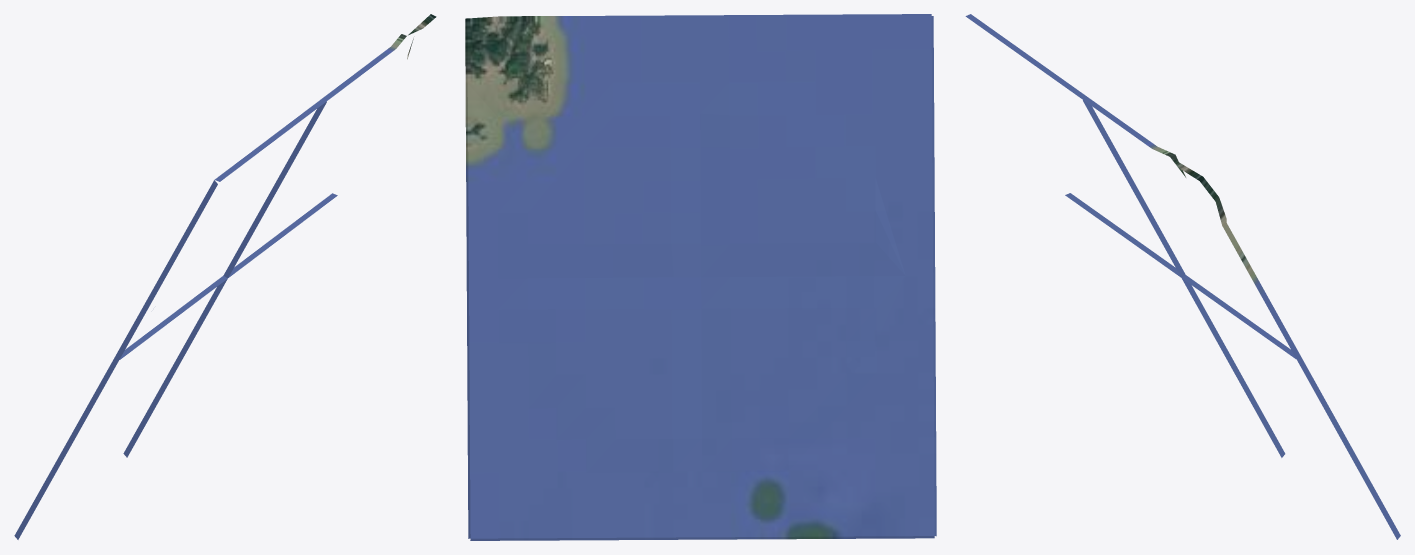
3 renders of one model, left to right at view 1: azimuth 30°, elevation 25°; view 2: azimuth 150°, elevation 25°; view 3: azimuth 270°, elevation 25°, orthographic. The views are drawn at different scales.
Bounding box in the file's own units: 39503 × 35356 × 33747.
1 material, 1 textured.
